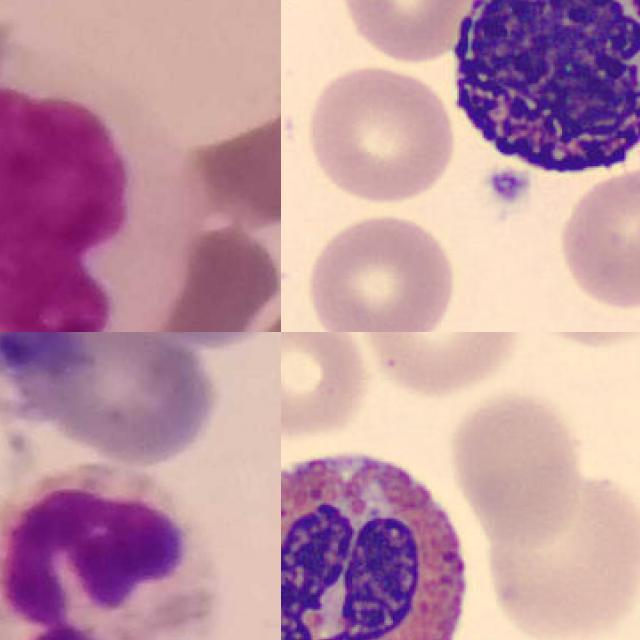Basophil: (437, 0, 640, 184)
Eosinophil: (281, 431, 483, 640)
Monocyte: (0, 76, 188, 332)
Neutrophil: (0, 466, 215, 640)
Platelets: (480, 165, 534, 209)
RBC: (482, 464, 640, 640), (302, 60, 459, 207), (447, 384, 584, 546), (300, 207, 460, 332), (555, 162, 640, 312), (352, 332, 526, 399), (334, 0, 481, 67), (281, 332, 373, 439)
